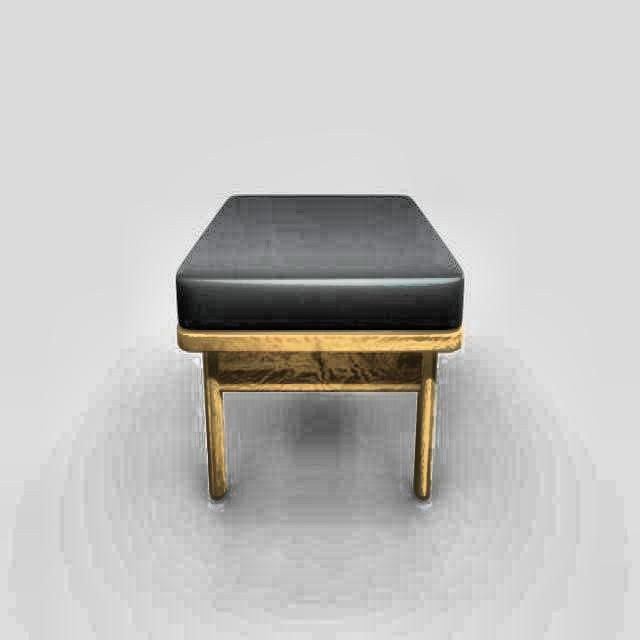mesa: (177, 190, 467, 505)
